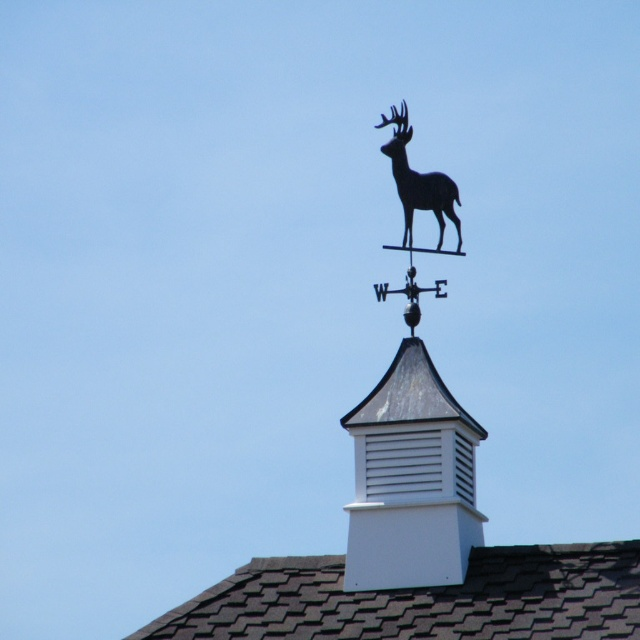Deer: (374, 95, 460, 247)
